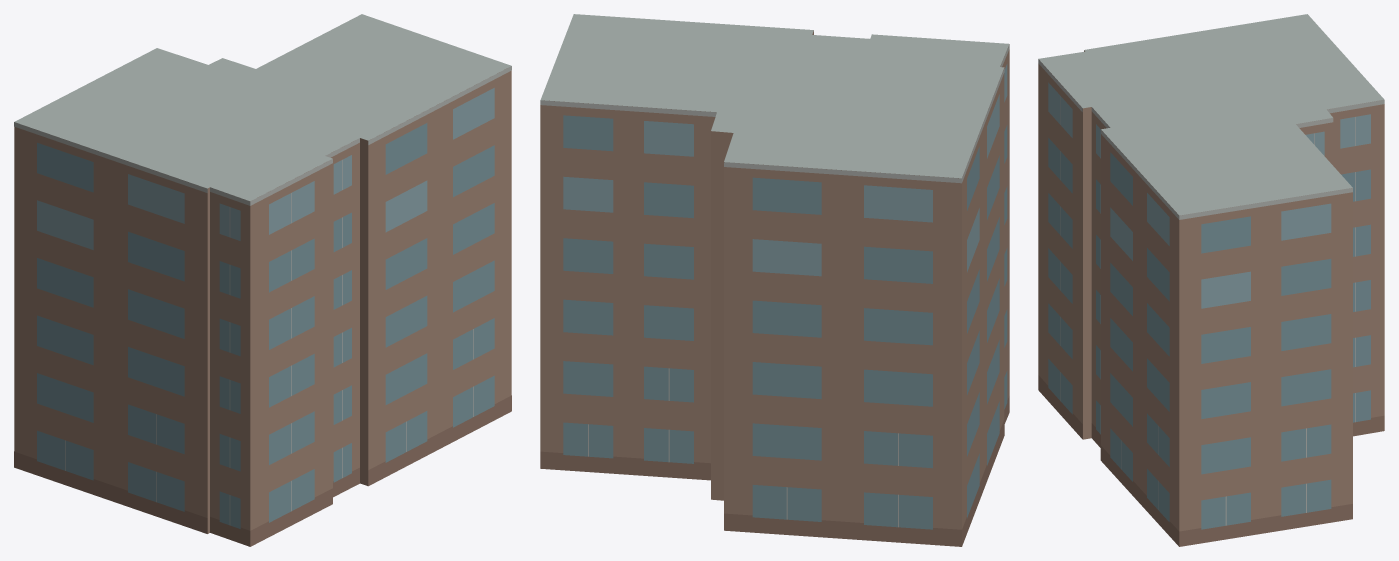
The model's file is survey-upis-32576590.glb.
The picture shows the model from 3 angles, left to right: view 1: azimuth 30°, elevation 25°; view 2: azimuth 150°, elevation 25°; view 3: azimuth 270°, elevation 25°; orthographic projection. The views are drawn at different scales.
Parts seen in each view (by area): view 1: survey-upis-32576590.tmp; view 2: survey-upis-32576590.tmp; view 3: survey-upis-32576590.tmp.
Boxes of the visible parts, x1=… form: survey-upis-32576590.tmp: x1=14, y1=14, x2=511, y2=546; survey-upis-32576590.tmp: x1=540, y1=14, x2=1009, y2=546; survey-upis-32576590.tmp: x1=1038, y1=14, x2=1384, y2=546.
Size of the model in its own units: 23.88 by 18.3 by 17.34.
